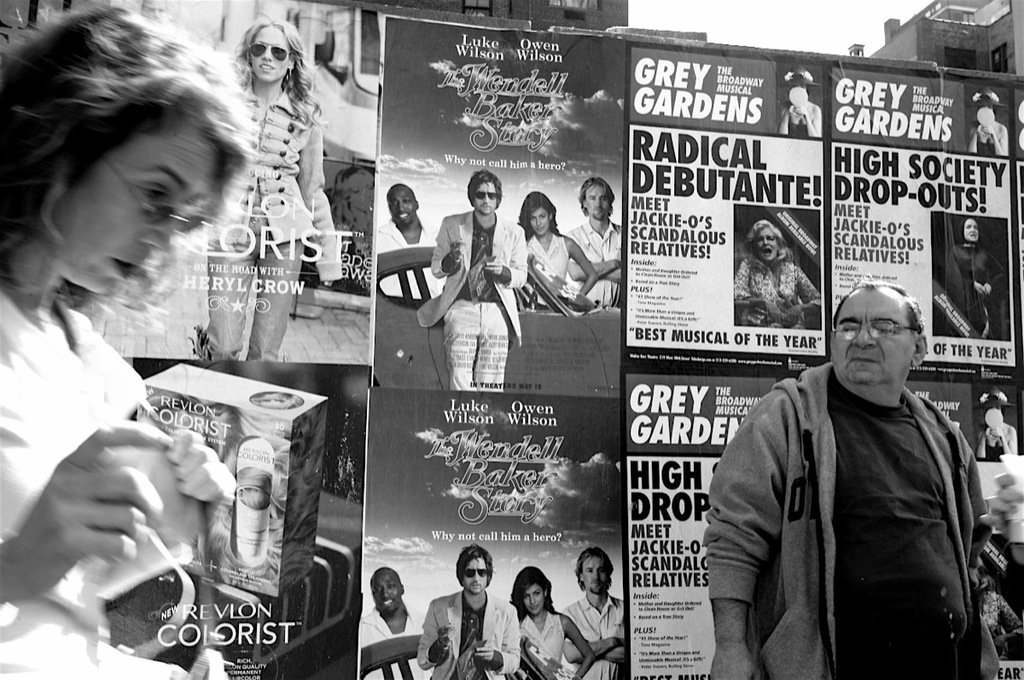Person: (135, 0, 1024, 680)
